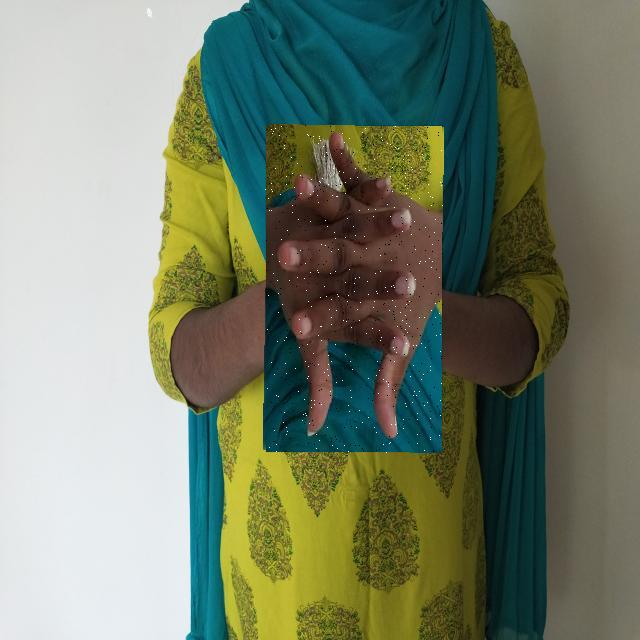W: (265, 125, 443, 453)
